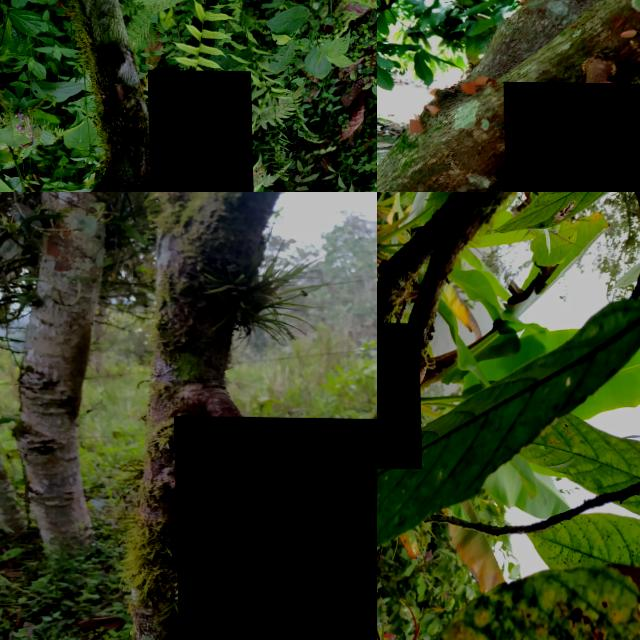Fitoftora: (173, 415, 377, 640), (502, 81, 640, 192)
Sana: (147, 69, 255, 192)
